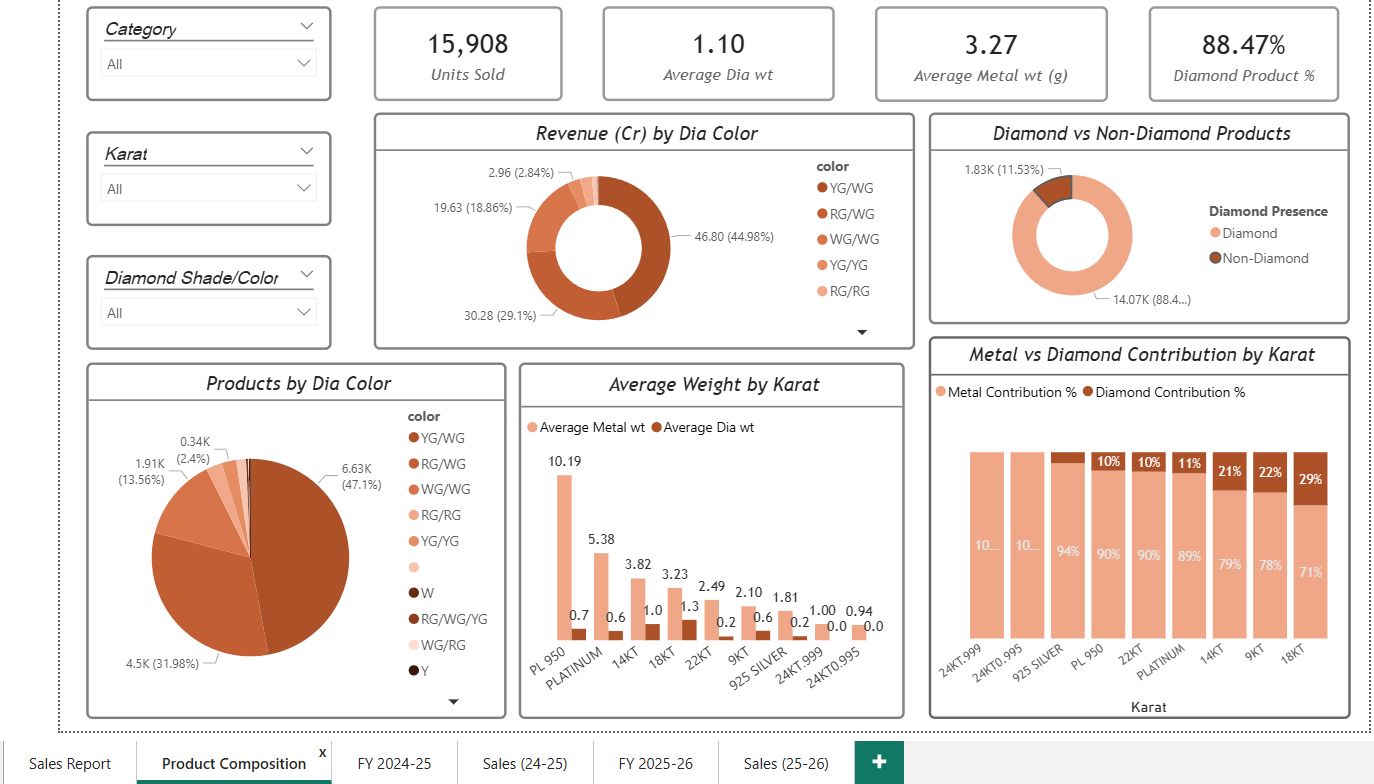

The page's visual inventory and layout, read from the dashboard file:
{"tool":"powerbi","page":{"name":"Product Composition","canvas":[1280,720],"ordinal":1},"visuals":[{"type":"card","fields":{"Values":["Table1.Products Sold"]},"box":[306.2,15,194.6,80],"z":0,"group":"g1"},{"type":"card","fields":{"Values":["Avg(Table1.Dia wt)"]},"box":[559.9,15,194.2,79.5],"z":1000,"group":"g1"},{"type":"clusteredColumnChart","title":"Average Weight by Karat","fields":{"Category":["Table1.Karat"],"Y":["Avg(Table1.Net wt)","Avg(Table1.Dia wt)"]},"box":[448.8,359.3,377.9,348.8],"z":1000},{"type":"card","fields":{"Values":["Avg(Table1.Net wt)"]},"box":[813.2,15,194.2,79.5],"z":2000,"group":"g1"},{"type":"columnChart","title":"Metal vs Diamond Contribution by Karat","fields":{"Category":["Table1.Karat"],"Y":["Avg(Table1.Metal Contribution %)","Avg(Table1.Diamond Contribution %)"]},"box":[850,333.7,412.8,374.4],"z":2000},{"type":"card","fields":{"Values":["Table1.Diamond Product %"]},"box":[1066.4,15,194.2,79.5],"z":3000,"group":"g1"},{"type":"donutChart","title":"Diamond vs Non-Diamond Products","fields":{"Category":["Table1.Diamond Presence"],"Y":["CountNonNull(Table1.Item #)"]},"box":[850,115.1,411.6,207],"z":3000},{"type":"donutChart","title":"Revenue (Cr) by Dia Color ","fields":{"Category":["Table1.color"],"Y":["Table1.Scaled Total Revenue"]},"box":[306.9,114.9,529.5,232.3],"z":4000},{"type":"pieChart","title":"Products by Dia Color ","fields":{"Category":["Table1.color"],"Y":["CountNonNull(Sales.Item #)"]},"box":[25.7,359.5,410.9,348.5],"z":5000},{"type":"group","id":"g1","title":"Group 1","box":[306.2,15,955,80],"z":6000},{"type":"group","id":"g2","title":"Group 2","box":[26.2,15,238.8,332.5],"z":7000},{"type":"slicer","fields":{"Values":["Table1.color"]},"box":[26.2,252.9,238.8,94.6],"z":8000,"group":"g2"},{"type":"slicer","fields":{"Values":["Table1.Karat"]},"box":[26.2,133.9,238.8,94.6],"z":9000,"group":"g2"},{"type":"slicer","fields":{"Values":["Table1.Category"]},"box":[26.2,15,238.8,94.6],"z":10000,"group":"g2"}]}

Visuals, with their boxes in screenshot pixels (x1, y1, x2, y2):
card - Table1.Products Sold: x1=370 y1=8 x2=569 y2=90
card - Avg(Table1.Dia wt): x1=629 y1=8 x2=827 y2=89
"Average Weight by Karat" clusteredColumnChart: x1=516 y1=360 x2=901 y2=716
card - Avg(Table1.Net wt): x1=888 y1=8 x2=1086 y2=89
"Metal vs Diamond Contribution by Karat" columnChart: x1=925 y1=334 x2=1347 y2=716
card - Table1.Diamond Product %: x1=1146 y1=8 x2=1344 y2=89
"Diamond vs Non-Diamond Products" donutChart: x1=925 y1=110 x2=1345 y2=322
"Revenue (Cr) by Dia Color " donutChart: x1=371 y1=110 x2=911 y2=347
"Products by Dia Color " pieChart: x1=83 y1=360 x2=503 y2=716
"Group 1" group: x1=370 y1=8 x2=1345 y2=90
"Group 2" group: x1=84 y1=8 x2=328 y2=348
slicer - Table1.color: x1=84 y1=251 x2=328 y2=348
slicer - Table1.Karat: x1=84 y1=130 x2=328 y2=226
slicer - Table1.Category: x1=84 y1=8 x2=328 y2=105
